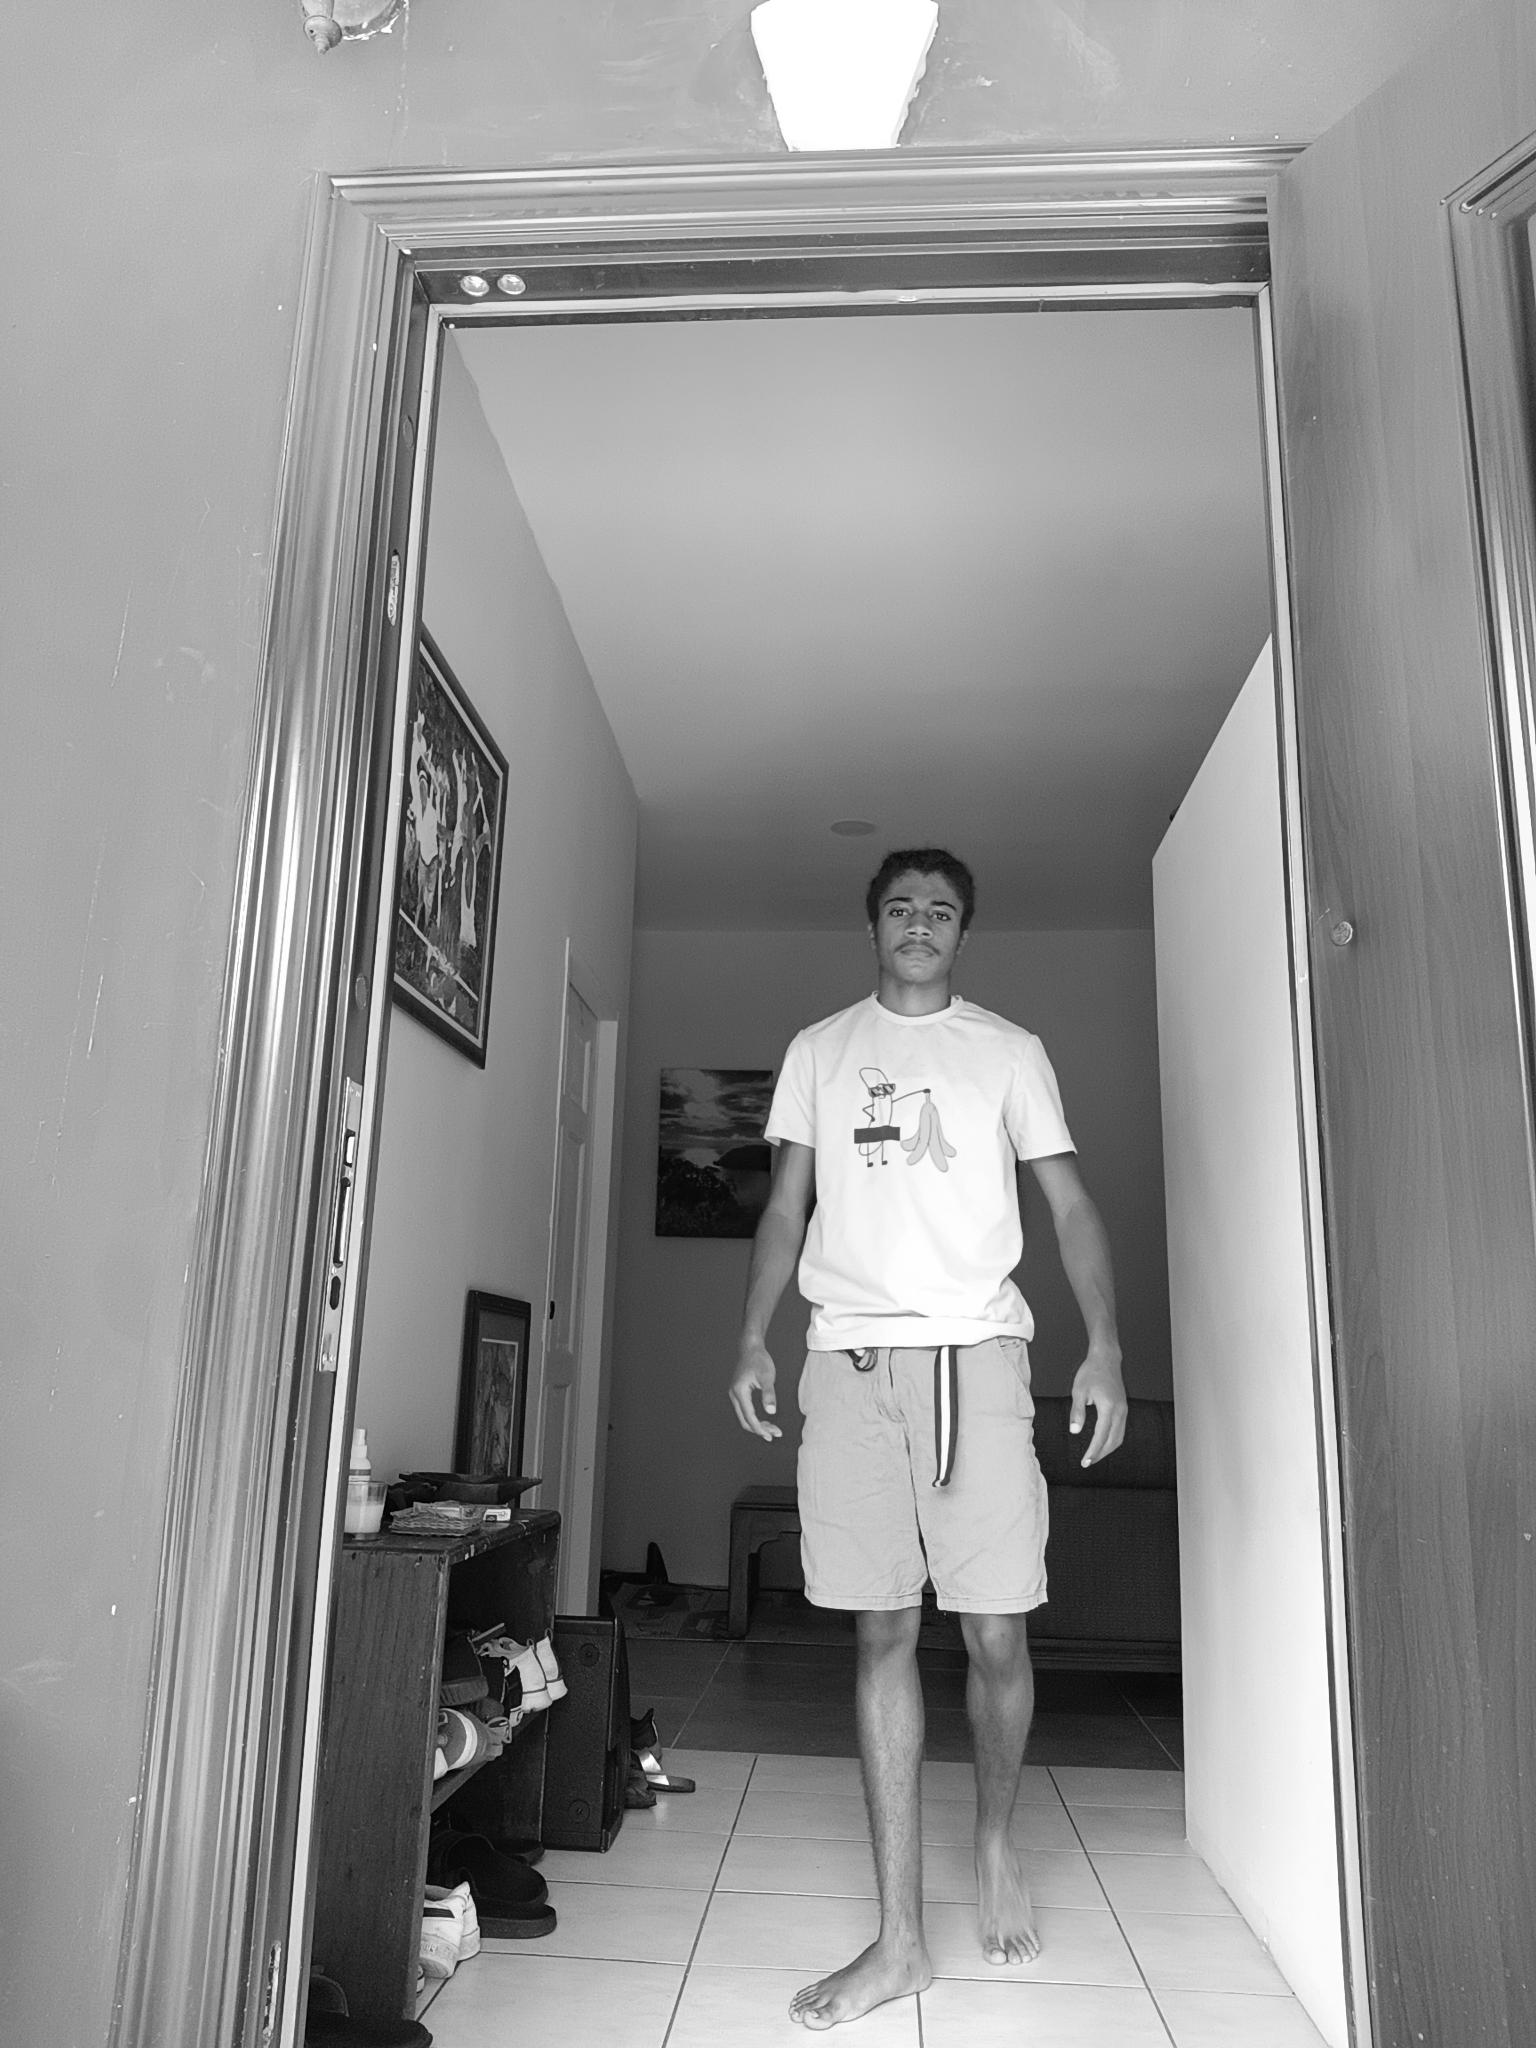front: (721, 842, 1133, 2030)
